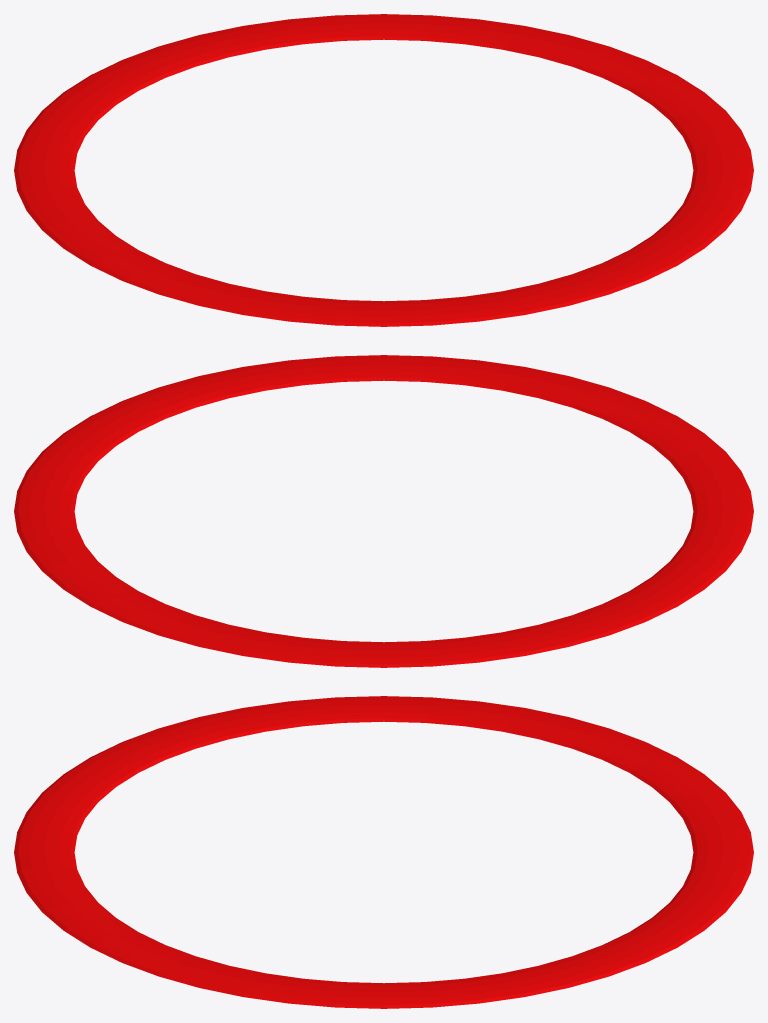
File: circle_shrinked.fbx
The picture shows the model from 3 angles, top to bottom: view 1: azimuth 30°, elevation 25°; view 2: azimuth 150°, elevation 25°; view 3: azimuth 270°, elevation 25°; orthographic projection.
Parts seen in each view (by area): view 1: Torus; view 2: Torus; view 3: Torus.
Boxes of the visible parts, <box> form: Torus: <box>14,14,753,326</box>; Torus: <box>14,355,753,667</box>; Torus: <box>14,696,753,1008</box>.
Size of the model in its own units: 211 by 2.29 by 211.
